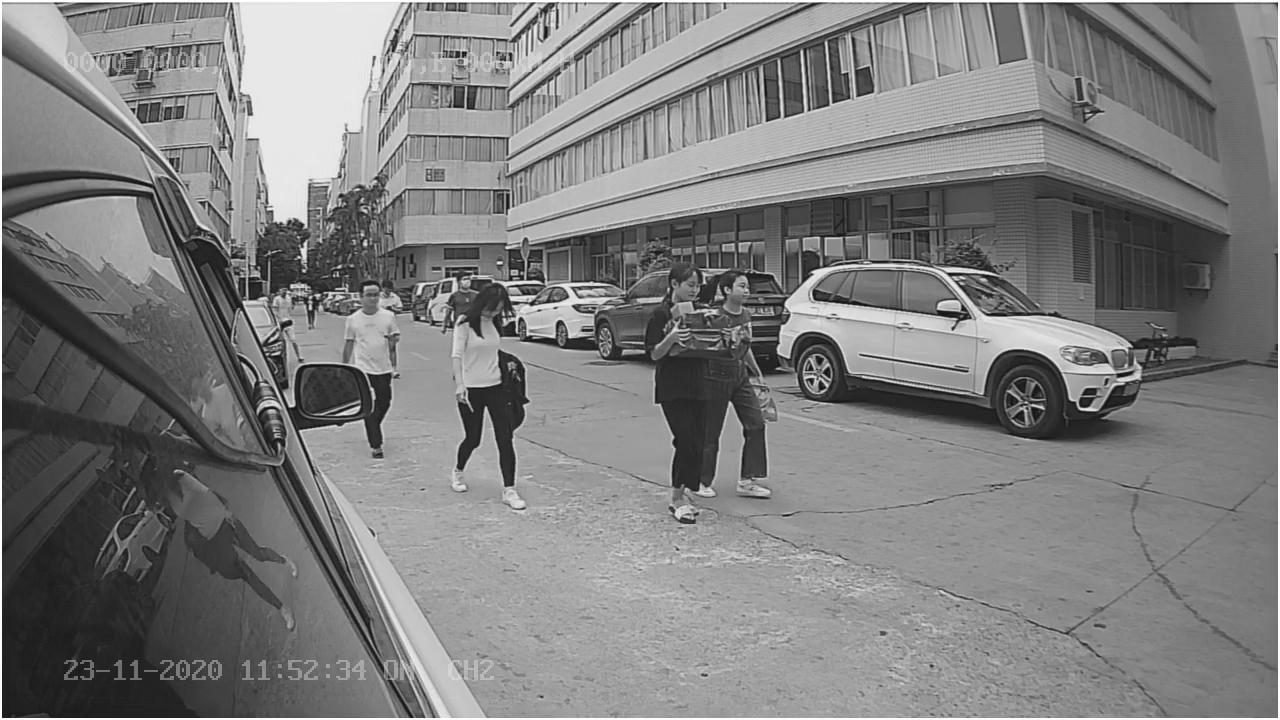person: (449, 277, 525, 503)
